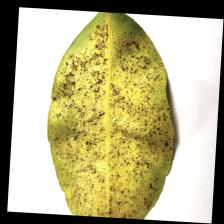canker: (52, 41, 160, 182)
